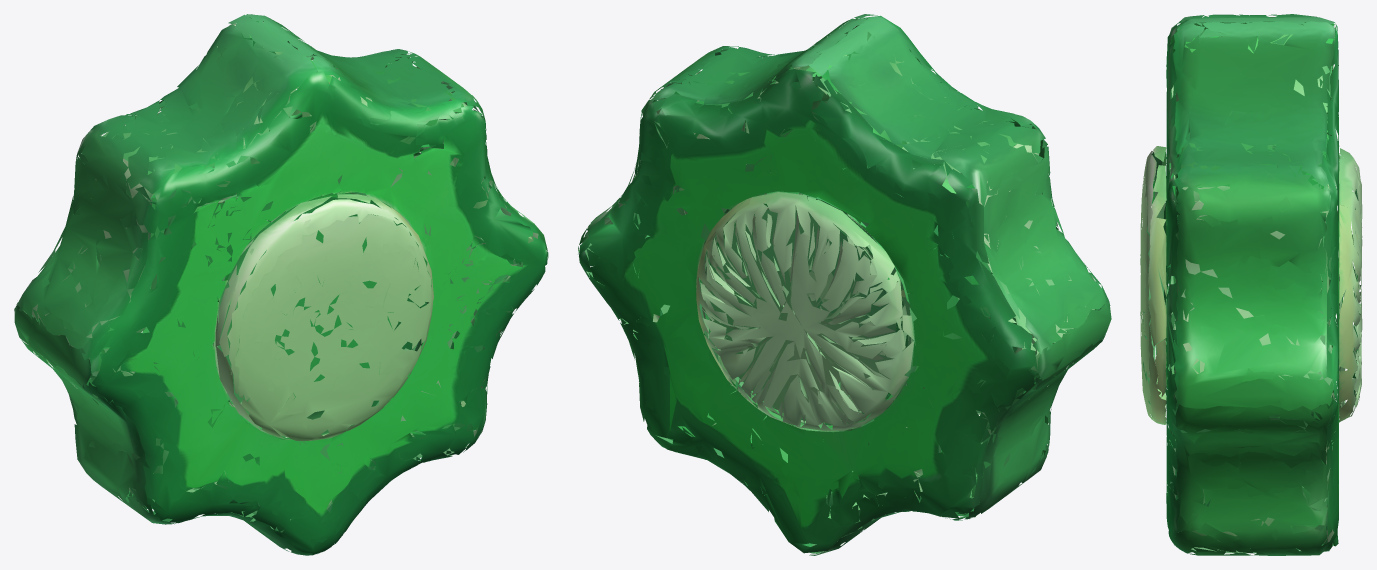
The model's file is cactus.glb.
3 views of the same model, side by side, from view 1: azimuth 30°, elevation 25°; view 2: azimuth 150°, elevation 25°; view 3: azimuth 270°, elevation 25° (orthographic). The views are drawn at different scales.
Bounding box in the file's own units: 0.0801 × 0.0801 × 0.0306.
1 material, 1 textured.
